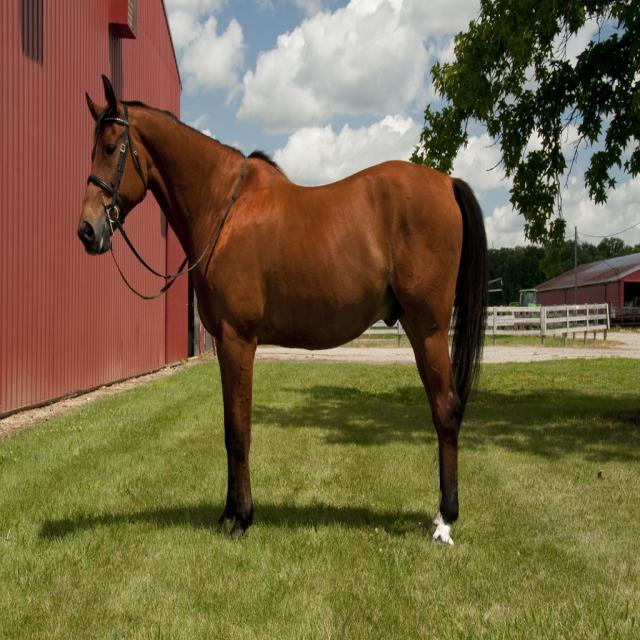Horse: (77, 76, 490, 551)
